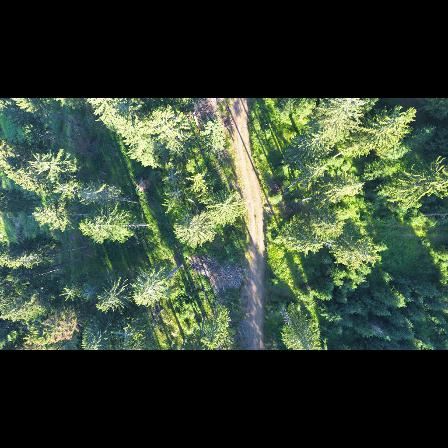Sick: (79, 285, 97, 303)
